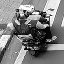mobil: (5, 4, 53, 57)
